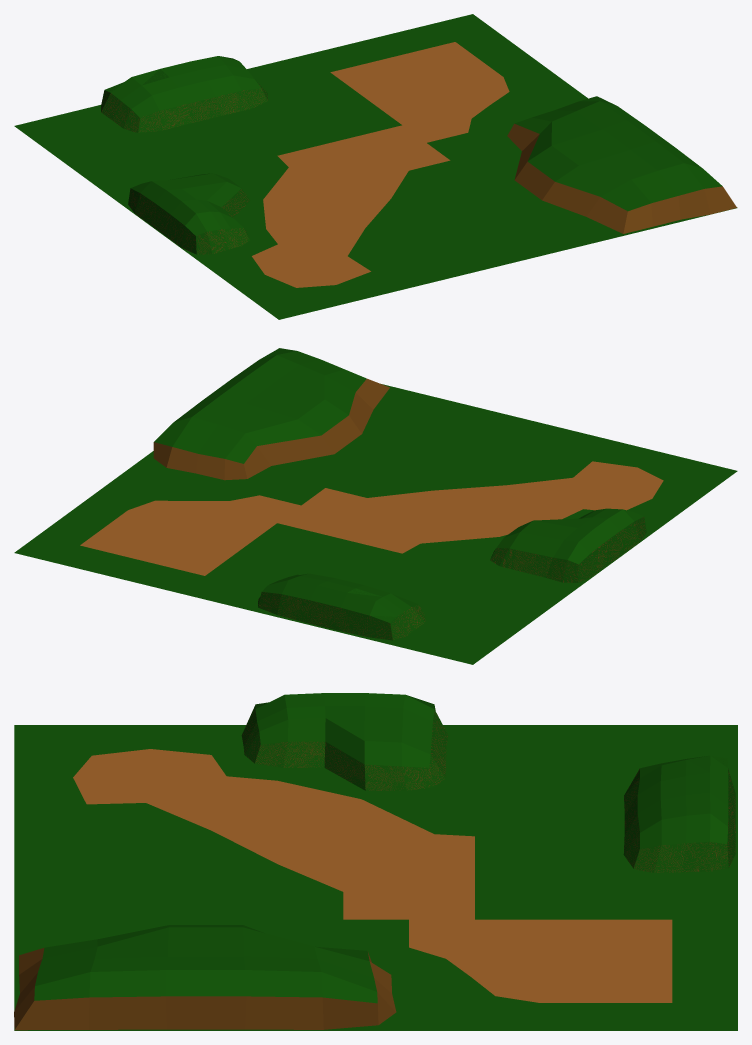
File: Terrain2.fbx
The picture shows the model from 3 angles, top to bottom: view 1: azimuth 30°, elevation 25°; view 2: azimuth 150°, elevation 25°; view 3: azimuth 270°, elevation 25°; orthographic projection. The views are drawn at different scales.
Parts seen in each view (by area): view 1: Terreno; view 2: Terreno; view 3: Terreno.
Part boxes in pixels (bbox=[...]): Terreno: bbox=[14, 14, 737, 319]; Terreno: bbox=[14, 348, 737, 664]; Terreno: bbox=[14, 693, 737, 1030].
Size of the model in its own units: 2000 by 140 by 2001.
